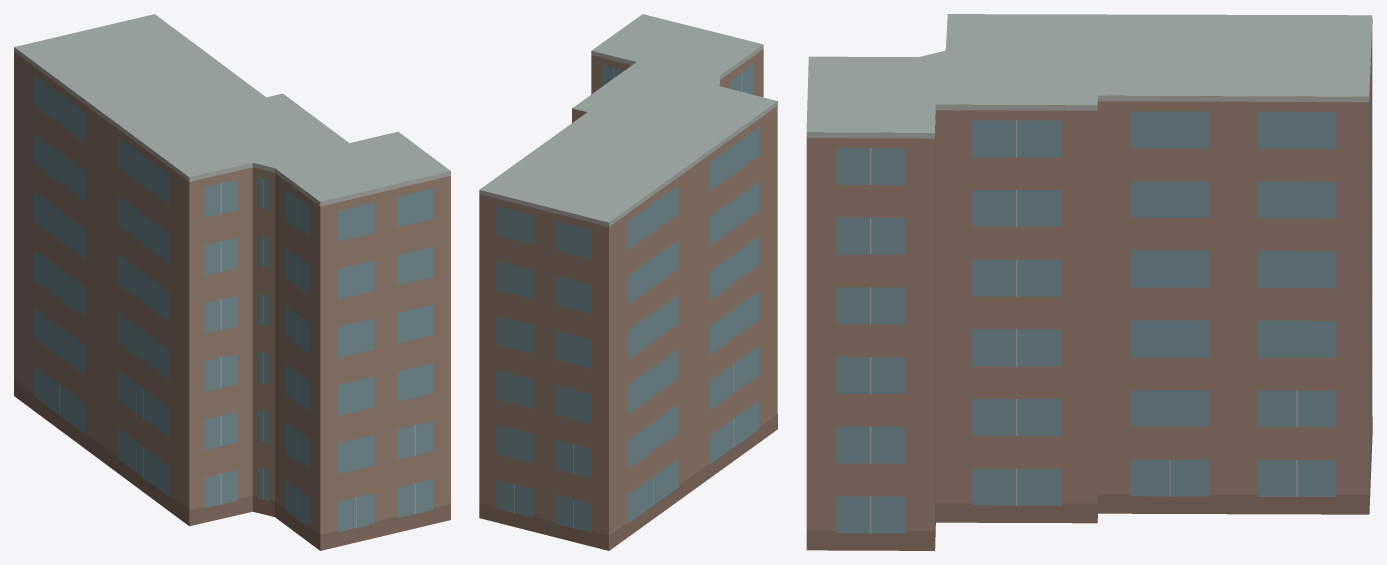
Rendered from survey-upis-32752784.glb.
3 renders of one model, left to right at view 1: azimuth 30°, elevation 25°; view 2: azimuth 150°, elevation 25°; view 3: azimuth 270°, elevation 25°, orthographic. The views are drawn at different scales.
Visible parts, largest first — view 1: survey-upis-32752784.tmp; view 2: survey-upis-32752784.tmp; view 3: survey-upis-32752784.tmp.
Boxes of the visible parts, box(x1,y1,x2,y2) form: survey-upis-32752784.tmp: box(14, 14, 450, 550); survey-upis-32752784.tmp: box(479, 14, 777, 550); survey-upis-32752784.tmp: box(806, 14, 1372, 550).
Bounding box in the file's own units: 11.18 × 18.3 × 22.47.
